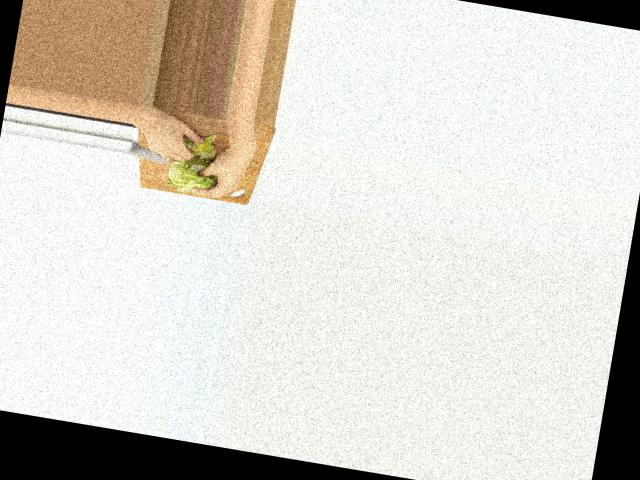lettuce: (164, 155, 217, 195)
